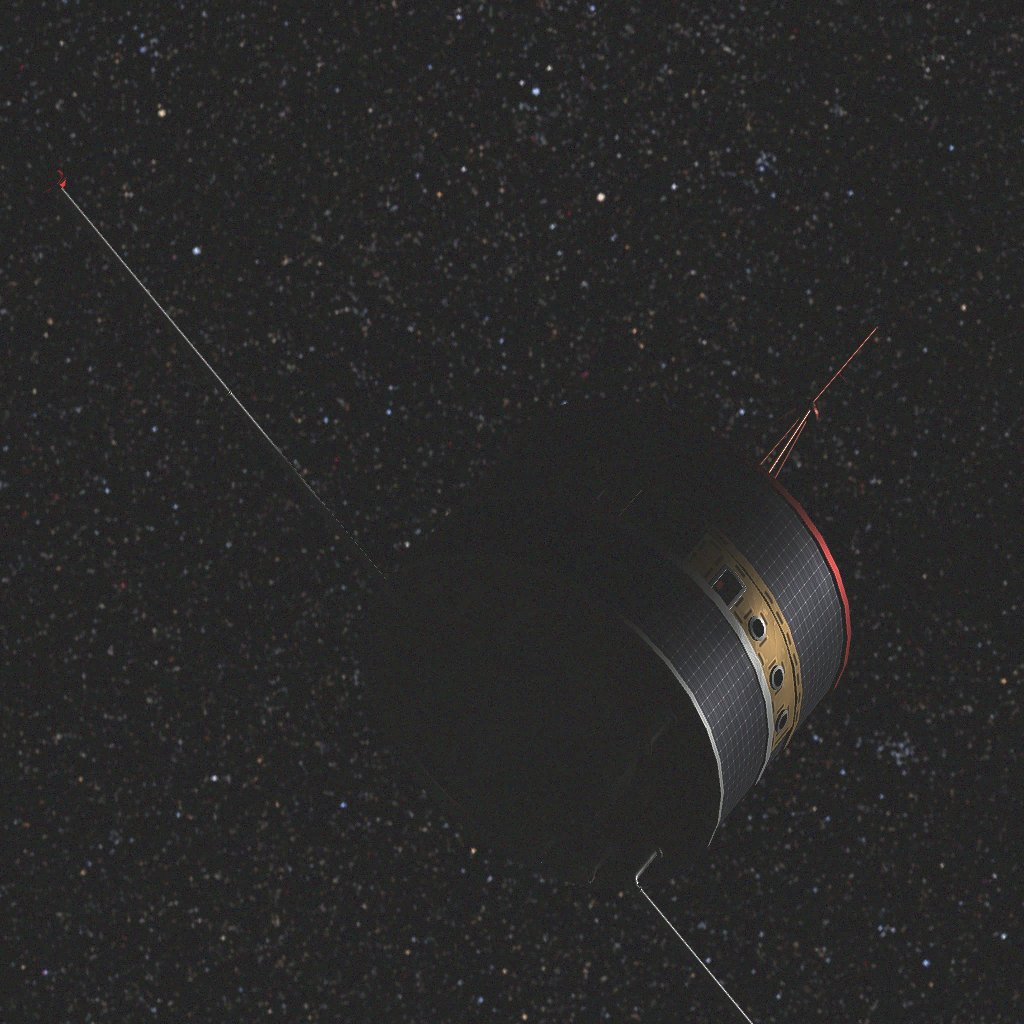double_star: (40, 170, 878, 1024)
